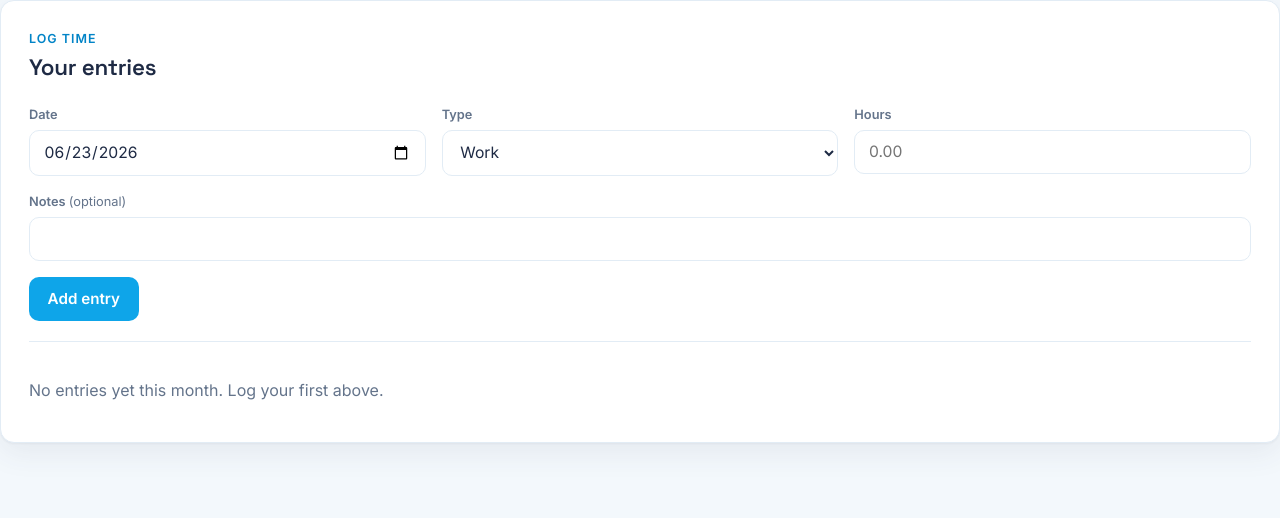
TimeEntries › blocks a work entry with no hours and shows a clear error
The width and height of the screenshot is (1280, 518).
Click the button "Add entry" at (84, 299), box [29,277,139,321]
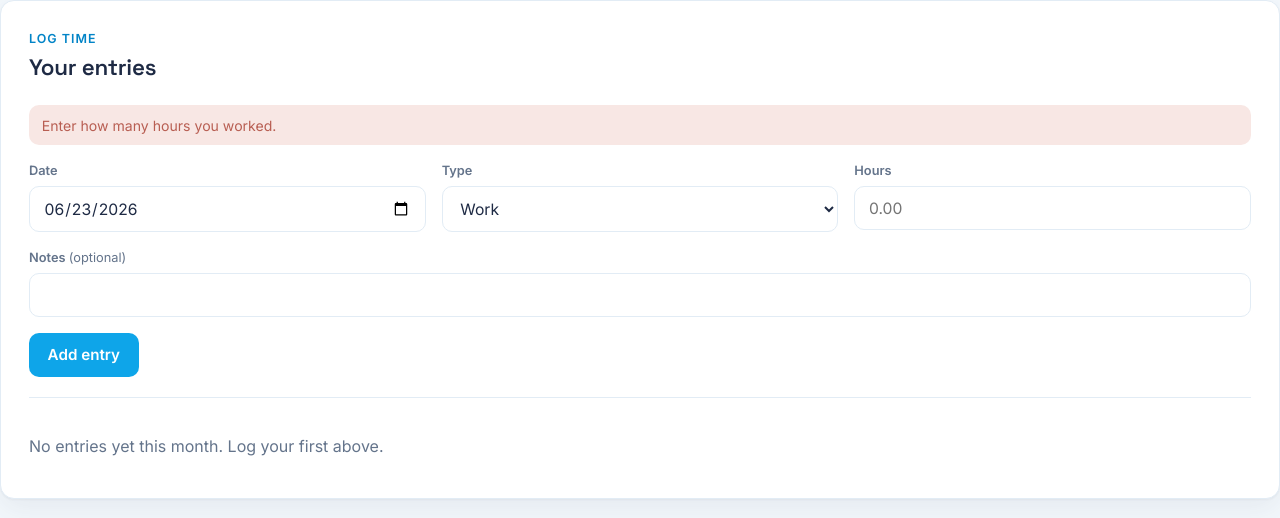
Expected: the text "Enter how many hours you worked." is shown, [29,105,1251,145]
